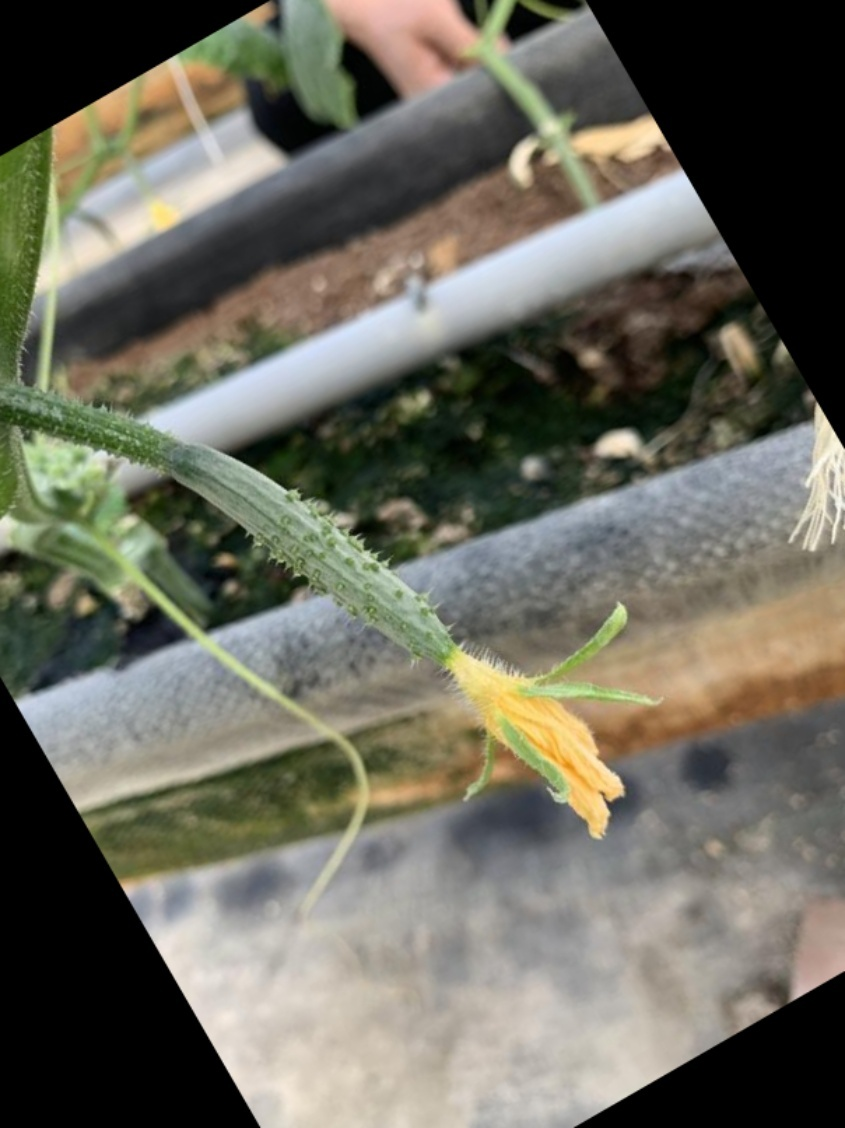bear: (189, 447, 645, 867)
